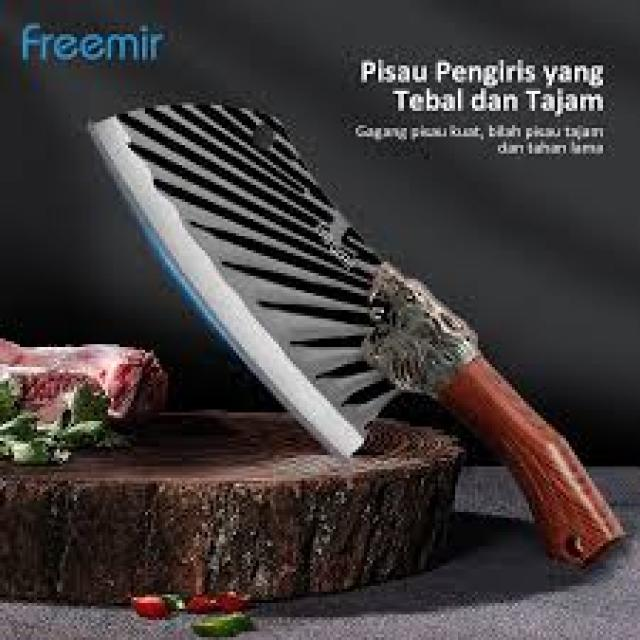Knife: (88, 102, 623, 563)
